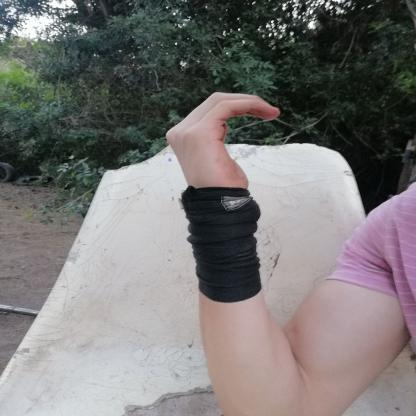HAA: (149, 79, 294, 216)
